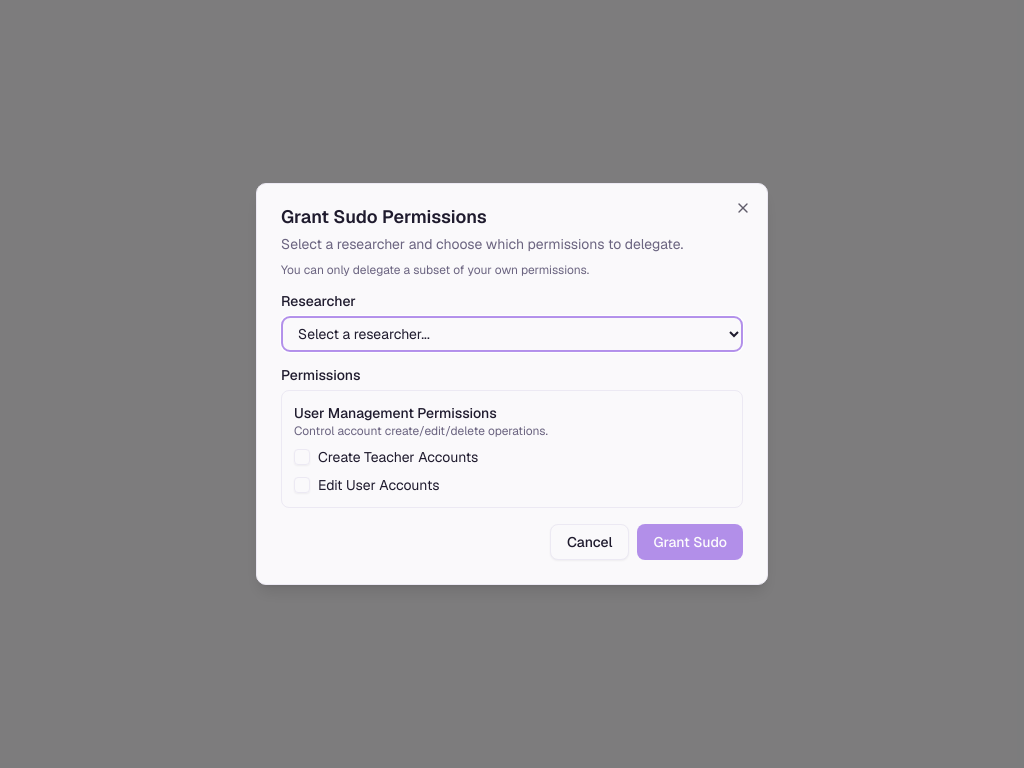
Test: GrantSudoDialog › shows locked admin-only state for grants that include non-editable permissions
Select "Bob (bob@test.com)" in the dropdown labelled "Researcher" at [512, 334], box [281, 316, 743, 352]
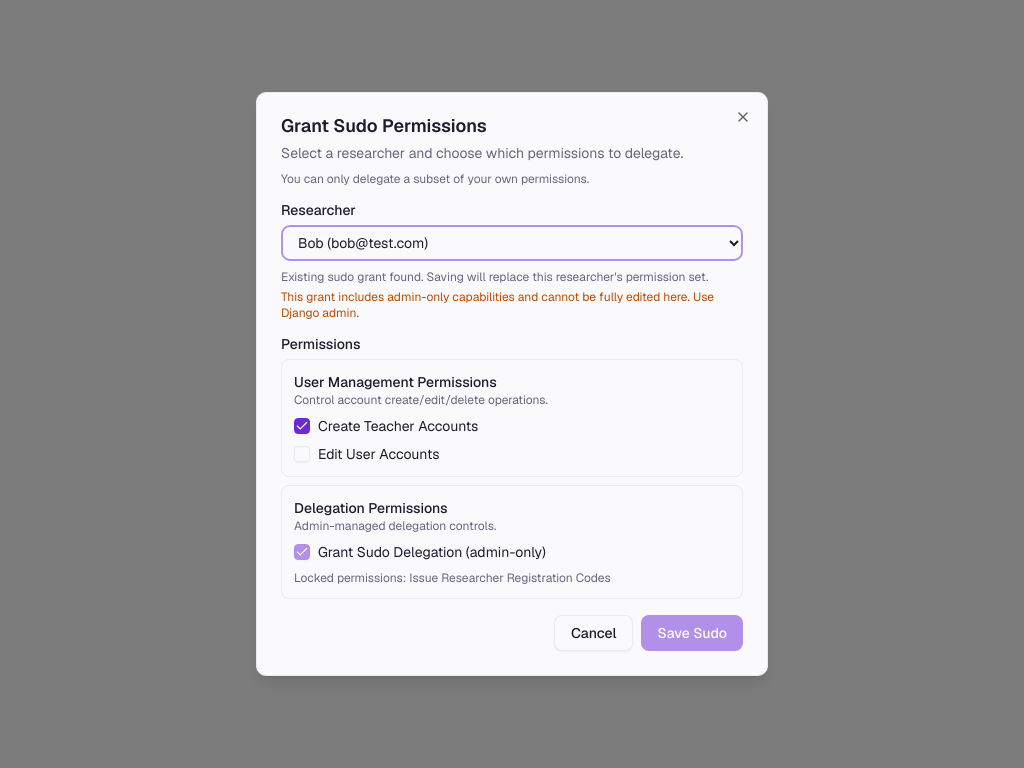
expect the button "Save Sudo" is disabled: met, box [642, 615, 743, 651]
expect the checkbox named "Grant Sudo Delegation (admin-only)" next to "Grant Sudo Delegation (admin-only)" is checked: met, box [294, 544, 310, 560]
expect the text "This grant includes admin-only capabilities and cannot be fully edited here. Use Django admin." is shown: met, box [281, 289, 714, 321]
